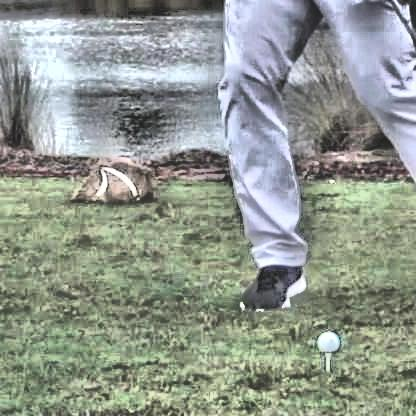golfball: (314, 329, 335, 351)
